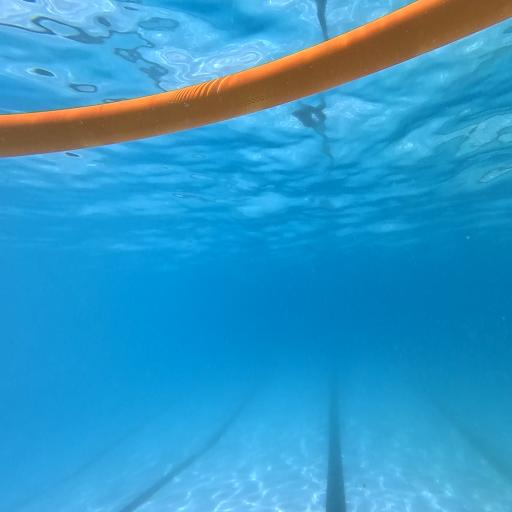upper_gate: (0, 0, 512, 158)
